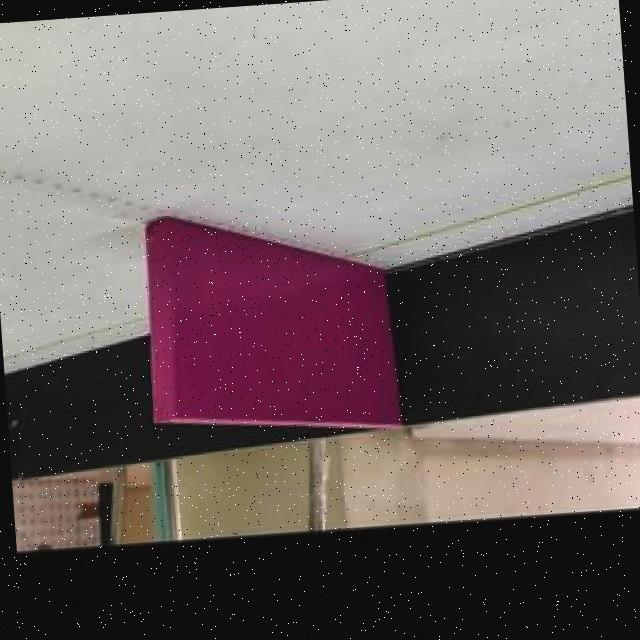xparking: (142, 217, 393, 424)
